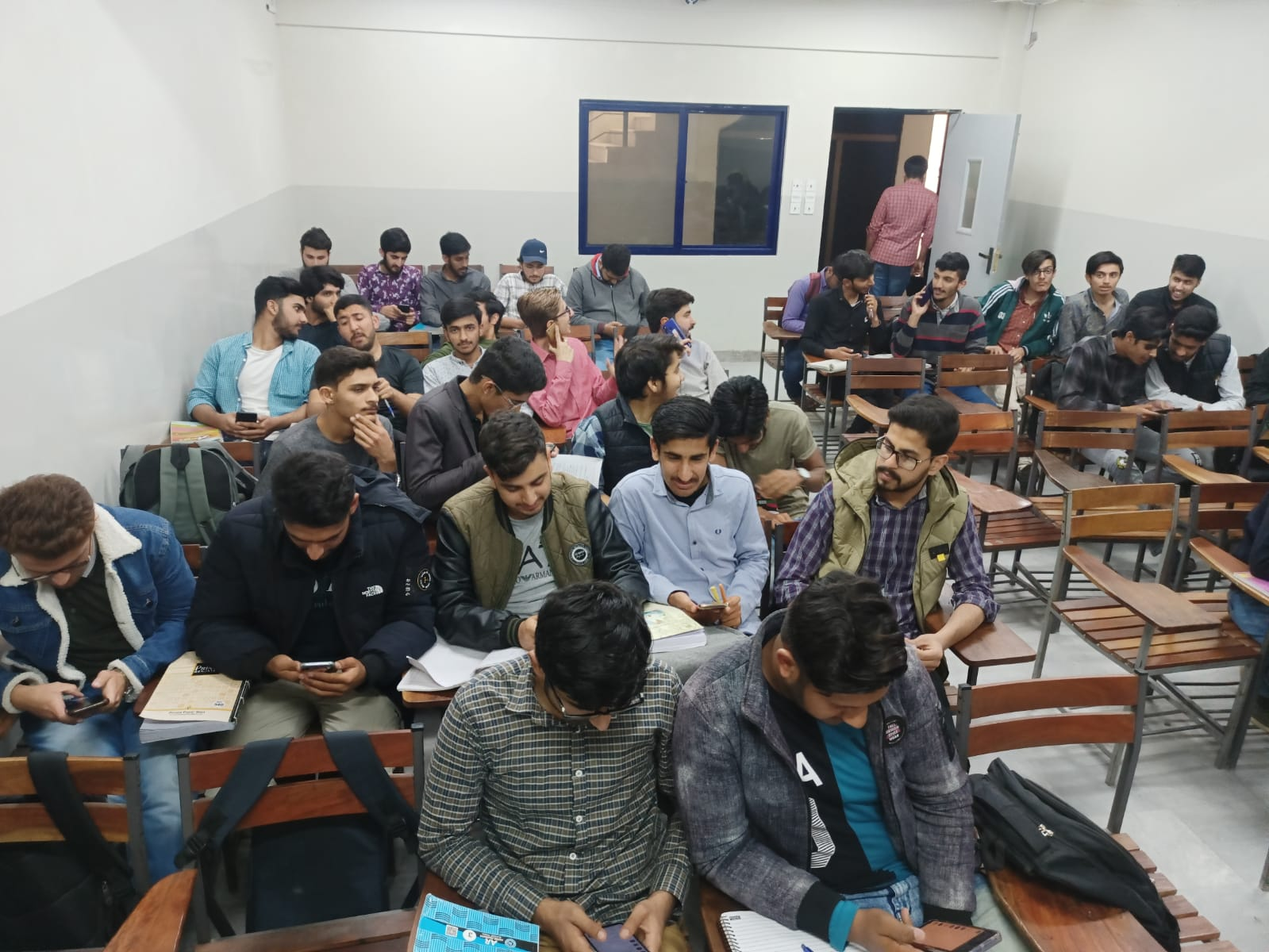non-cheating: (773, 567, 911, 739), (535, 584, 657, 746), (3, 468, 99, 596), (264, 449, 366, 568), (475, 406, 556, 519), (645, 392, 723, 501), (329, 292, 385, 353), (437, 297, 488, 358), (587, 237, 636, 287), (1080, 246, 1125, 300), (511, 233, 553, 284), (1019, 246, 1061, 295), (295, 221, 336, 271)
phone: (524, 871, 686, 952), (848, 882, 1008, 952), (11, 665, 137, 730), (262, 644, 372, 703), (659, 578, 750, 635), (211, 402, 282, 440), (541, 316, 579, 372), (658, 313, 701, 360), (906, 277, 936, 320), (381, 298, 423, 328)
